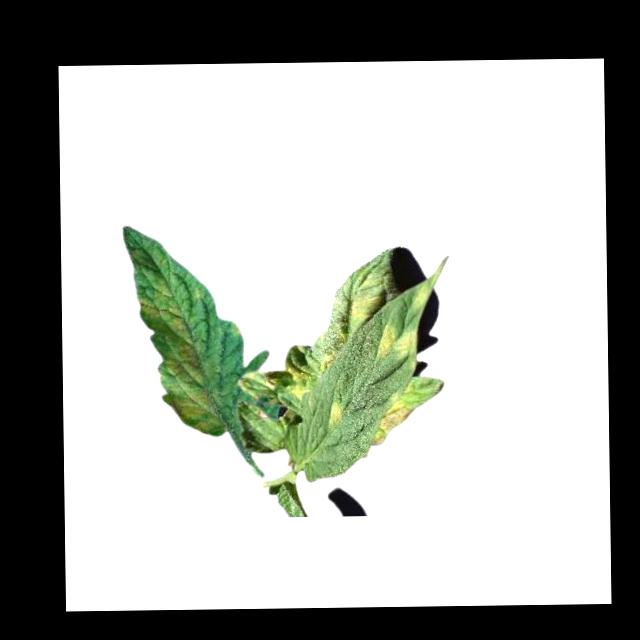Leaf_Mold: (135, 271, 222, 438), (285, 348, 340, 397), (370, 390, 417, 446), (345, 266, 382, 318), (374, 317, 418, 360), (328, 398, 343, 427)
